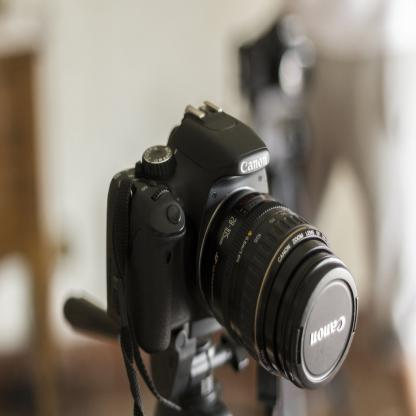Camera: (64, 99, 360, 416)
